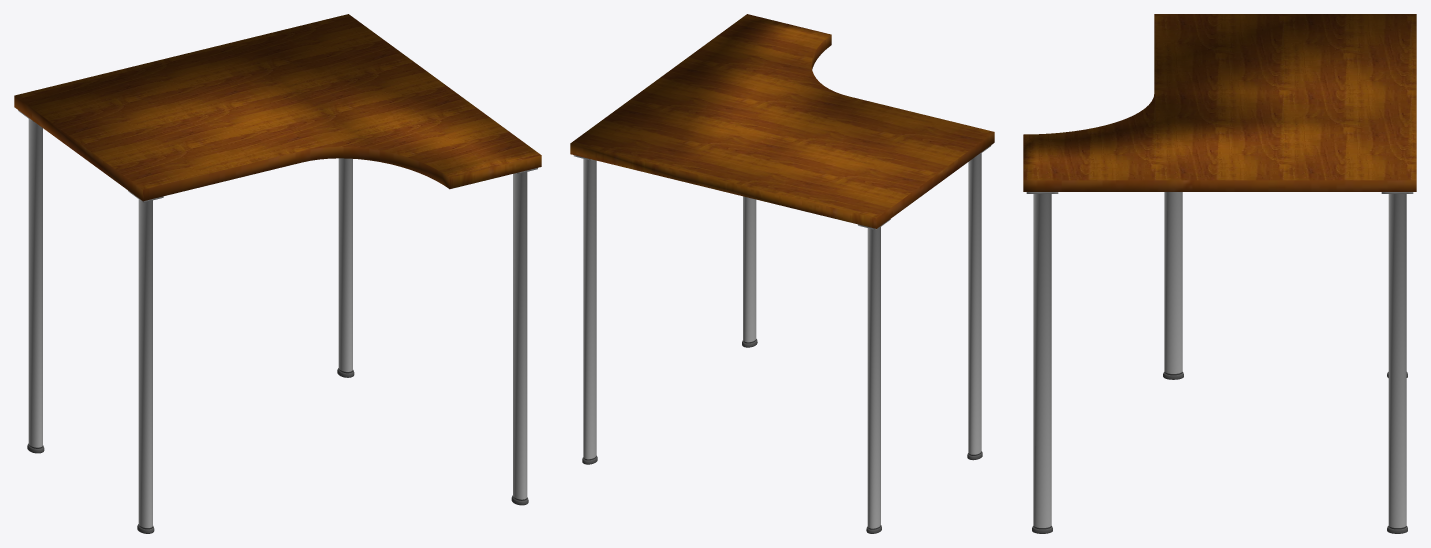
Rendered from sh-scopia-wooden-office-teak-table.glb.
The picture shows the model from 3 angles, left to right: view 1: azimuth 30°, elevation 25°; view 2: azimuth 150°, elevation 25°; view 3: azimuth 270°, elevation 25°; orthographic projection. The views are drawn at different scales.
Visible parts, largest first — view 1: teak_table_Cube, leg_downleft_Cylinder.003; view 2: teak_table_Cube, leg_downleft_Cylinder.003; view 3: teak_table_Cube, leg_downleft_Cylinder.003.
Part boxes in pixels (<box>): teak_table_Cube: <box>14,14,541,201</box>; leg_downleft_Cylinder.003: <box>18,110,537,533</box>; teak_table_Cube: <box>570,14,994,228</box>; leg_downleft_Cylinder.003: <box>573,145,991,533</box>; teak_table_Cube: <box>1023,14,1416,191</box>; leg_downleft_Cylinder.003: <box>1026,192,1413,533</box>.
Size of the model in its own units: 1 by 1 by 1.
3 materials, 1 textured.
